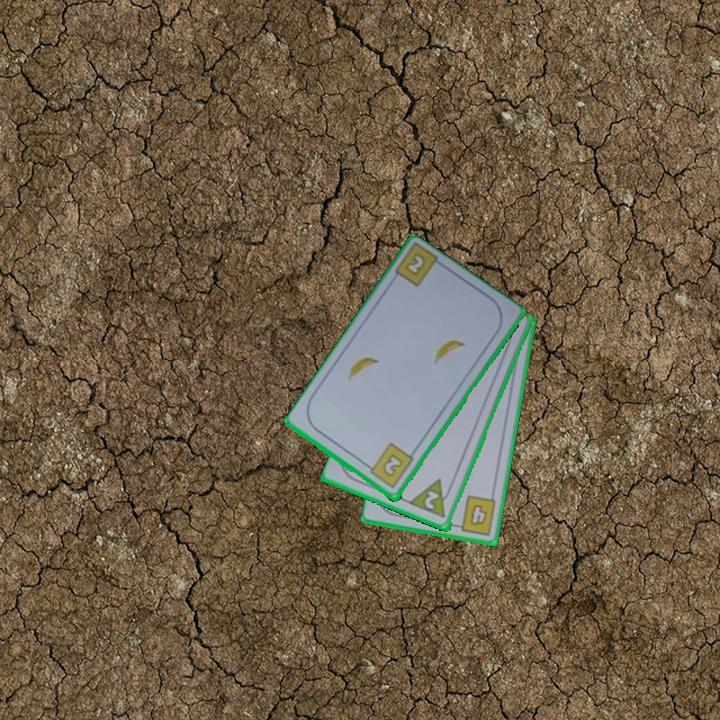2b: (363, 440, 416, 492), (404, 252, 426, 277)
2p: (421, 487, 442, 512)
4b: (451, 492, 499, 538)
